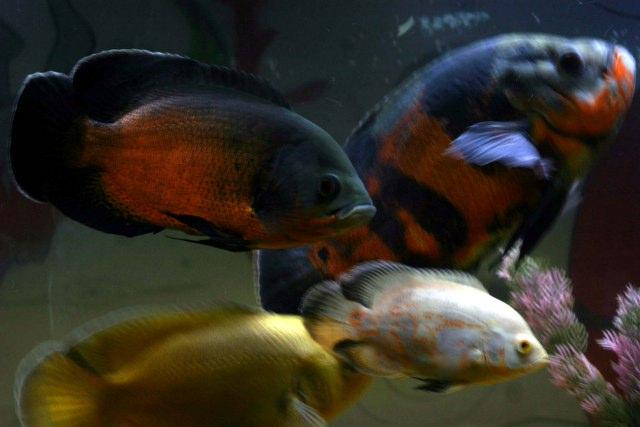Mulut: (330, 190, 408, 236), (534, 333, 558, 383)
Sirip Anal: (49, 160, 165, 244), (328, 327, 408, 383)
Sirip Dada: (250, 124, 324, 240), (444, 114, 554, 188)
Sirip Ekor: (6, 63, 82, 216), (15, 343, 101, 427), (294, 270, 368, 358)
Sirip Perut: (154, 199, 250, 263), (414, 369, 472, 401)
Sirip Punggung: (67, 34, 285, 118), (68, 300, 266, 368), (343, 248, 489, 308)
